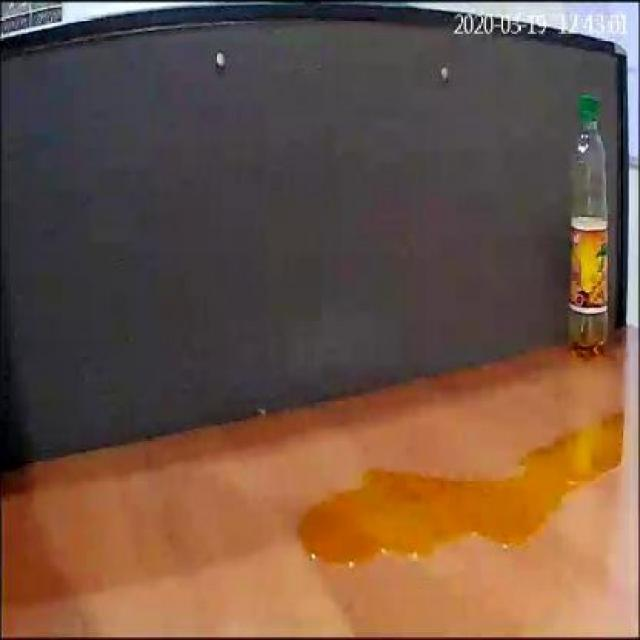spill: (298, 412, 626, 566)
